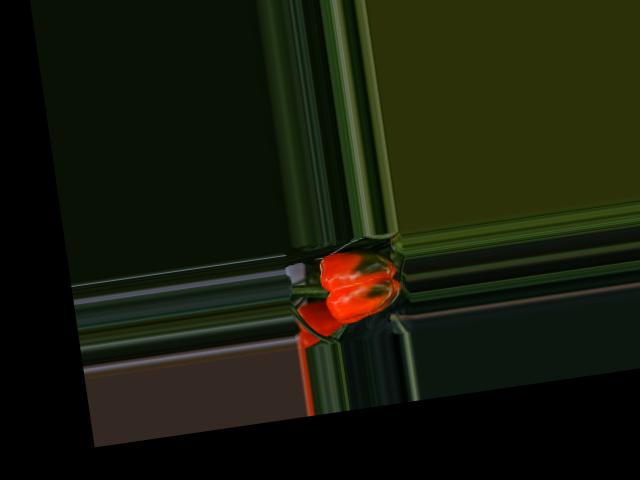bell_pepper: (306, 234, 411, 330)
